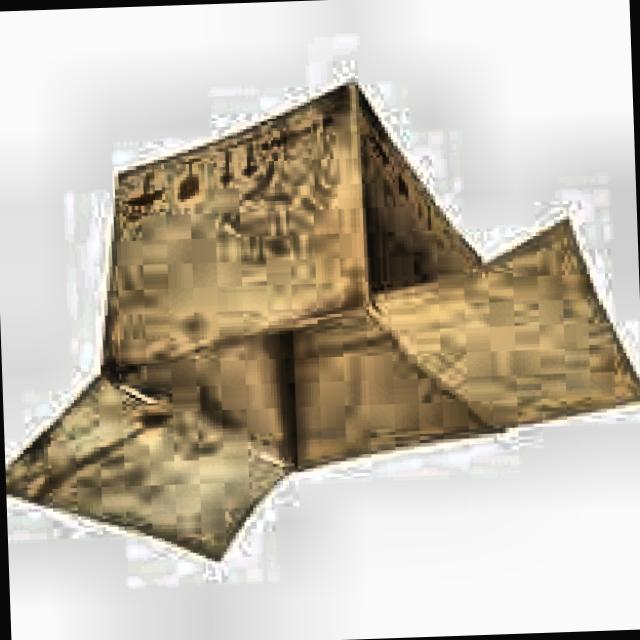cardboard: (0, 72, 640, 574)
